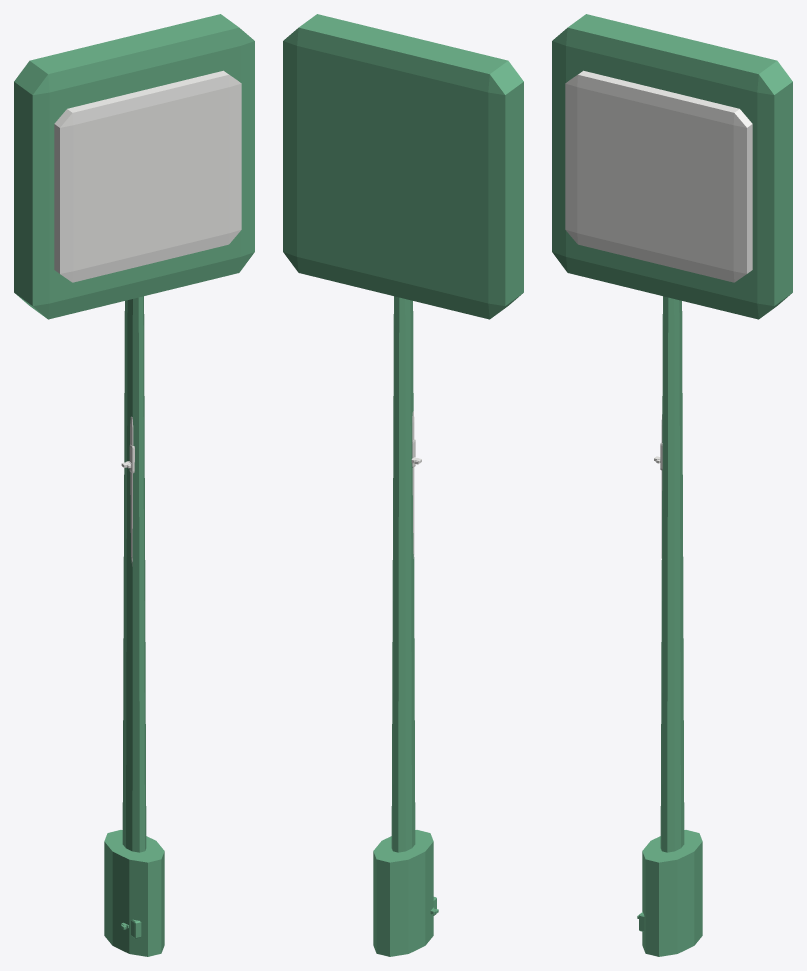
The model's file is b02_interstate_80_direction.glb.
The picture shows the model from 3 angles, left to right: view 1: azimuth 30°, elevation 25°; view 2: azimuth 150°, elevation 25°; view 3: azimuth 330°, elevation 25°; orthographic projection.
Visible parts, largest first — view 1: b02_interstate_80_direction; view 2: b02_interstate_80_direction; view 3: b02_interstate_80_direction.
Boxes of the visible parts, <box> form: b02_interstate_80_direction: <box>14,14,254,956</box>; b02_interstate_80_direction: <box>283,14,523,956</box>; b02_interstate_80_direction: <box>552,14,792,956</box>.
Bounding box in the file's own units: 0.68 × 2.62 × 0.214.
